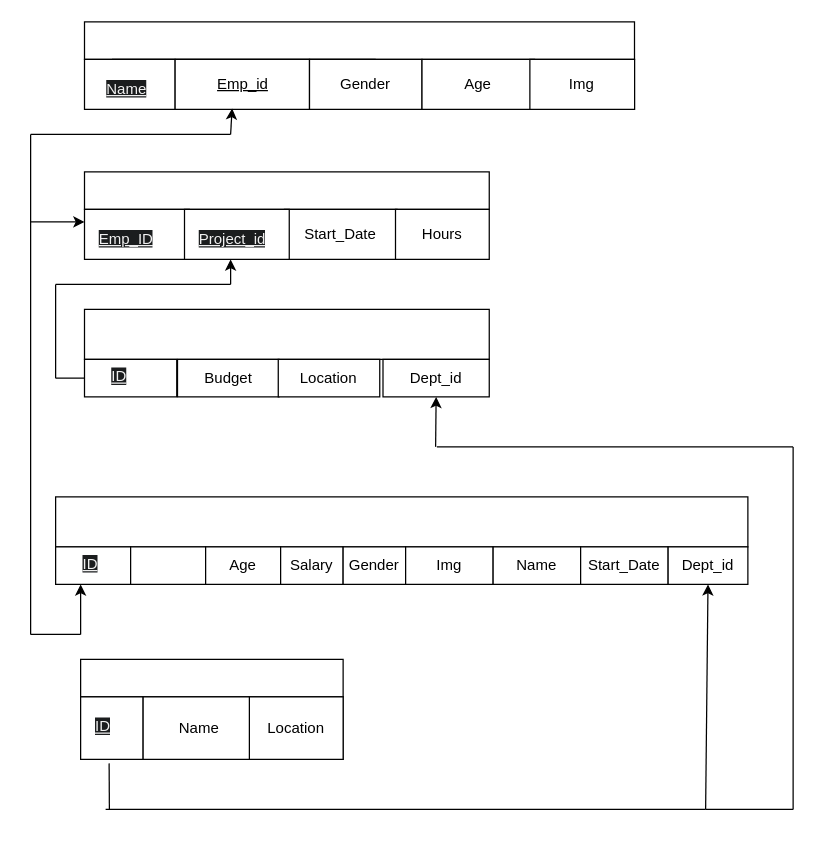
The diagram is 816 pixels wide and 841 high, and some of its shapes have lost their labels. Here are the shapes that lost their labels. From the top down, the box of each, then its label:
(83, 21, 634, 59): Dependent
(83, 171, 489, 209): WorksAt
(83, 308, 489, 359): Project
(54, 496, 748, 547): Employee
(129, 546, 206, 584): Adress
(79, 658, 343, 697): Department
